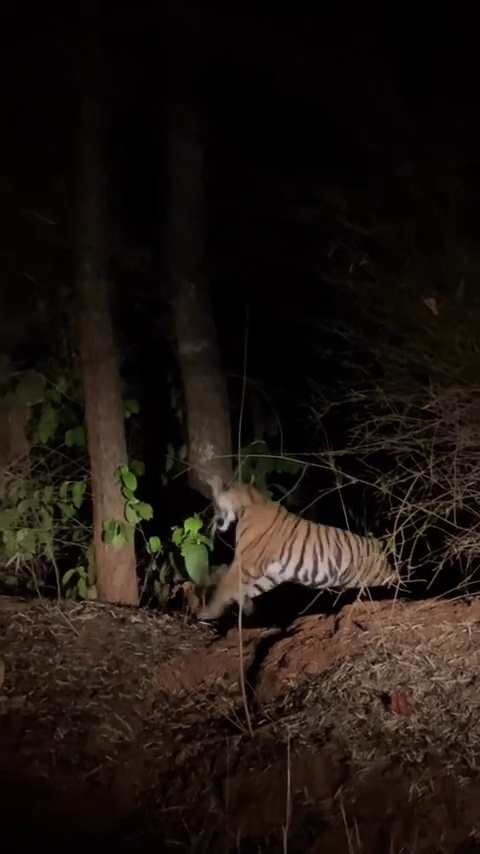Tiger: (199, 481, 401, 624)
